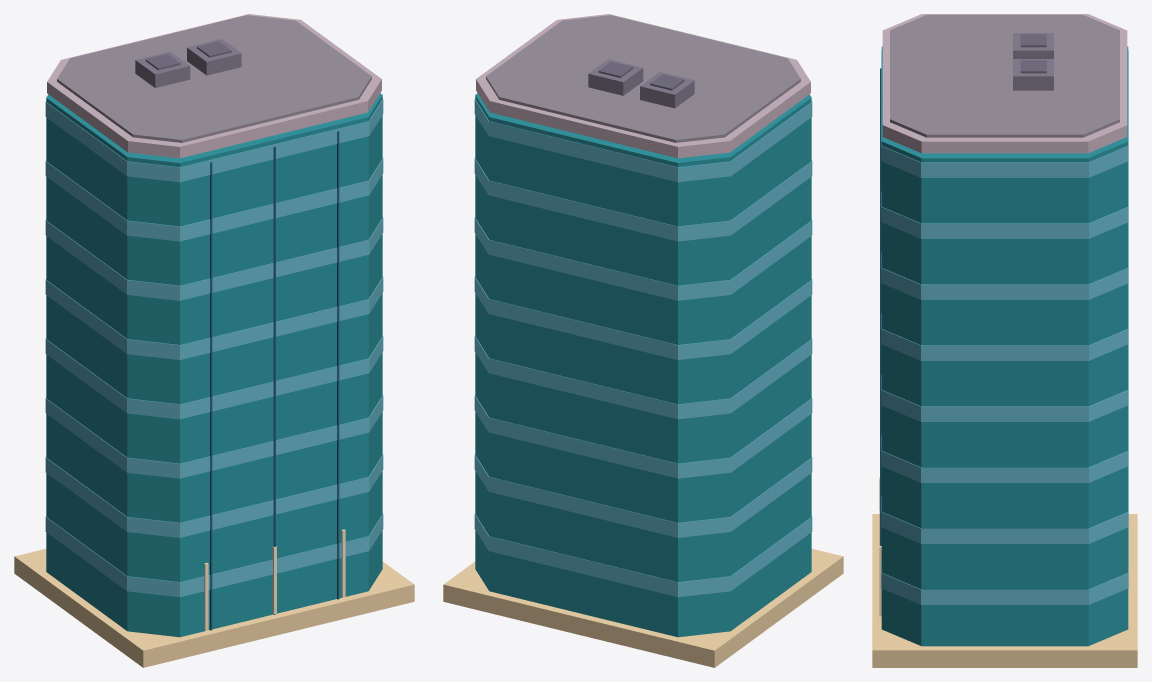
The model's file is Building_Teal_Octagonal.glb.
The picture shows the model from 3 angles, left to right: view 1: azimuth 30°, elevation 25°; view 2: azimuth 150°, elevation 25°; view 3: azimuth 270°, elevation 25°; orthographic projection. The views are drawn at different scales.
Parts seen in each view (by area): view 1: Building_Teal_Octagonal; view 2: Building_Teal_Octagonal; view 3: Building_Teal_Octagonal.
Boxes of the visible parts, x1,y1,x2,y2 form: Building_Teal_Octagonal: (14,14,414,667); Building_Teal_Octagonal: (443,14,843,667); Building_Teal_Octagonal: (872,14,1137,667).
Bounding box in the file's own units: 3.95 × 7.31 × 3.25.
